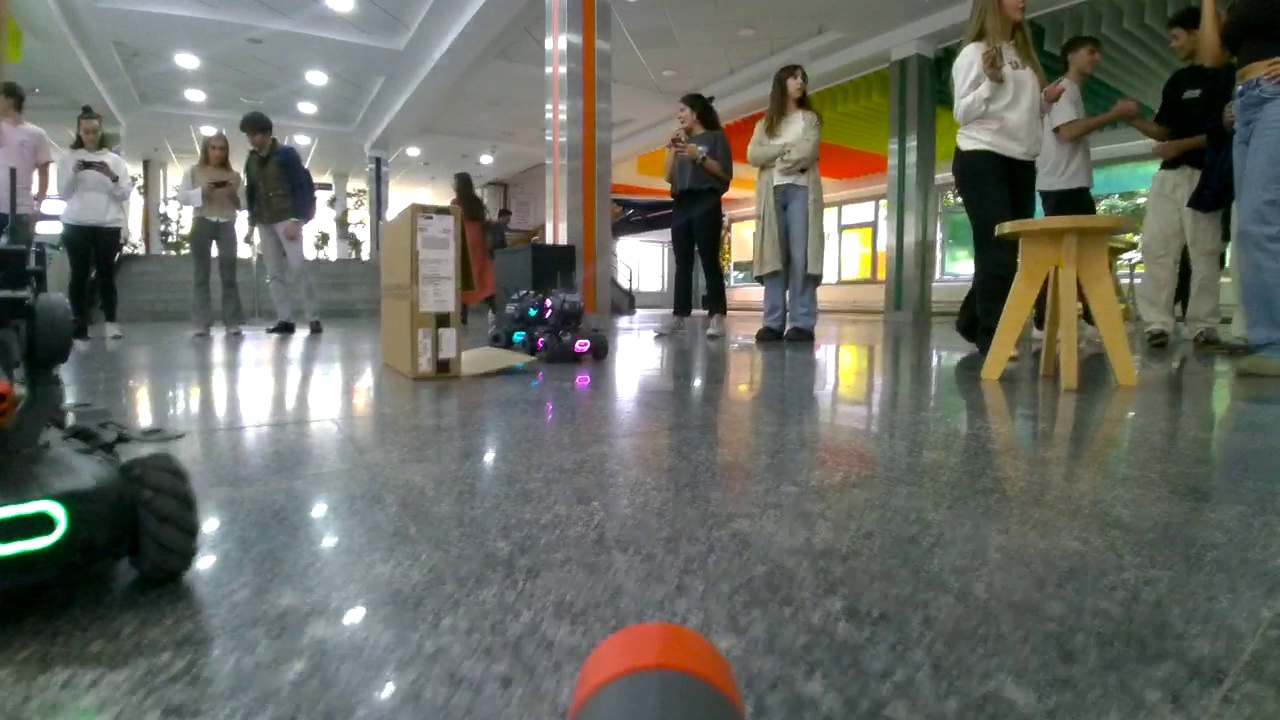robot: (1, 224, 203, 591), (539, 291, 615, 362), (484, 290, 551, 351)
